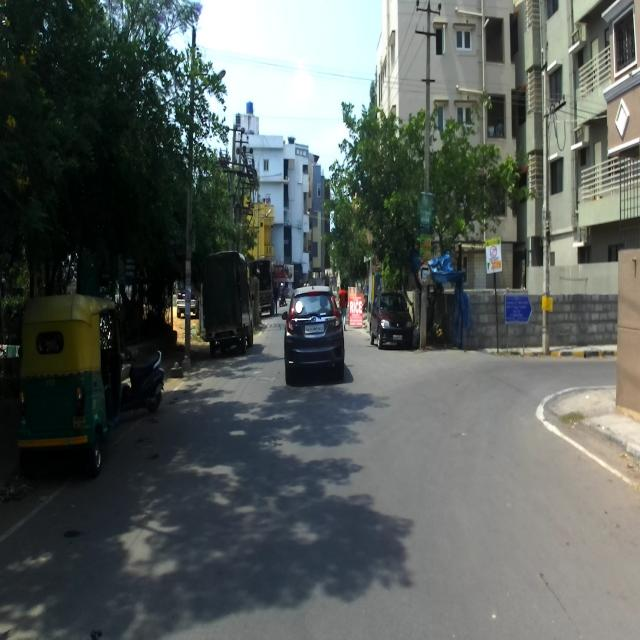autorickshaw: (19, 291, 124, 477)
car: (282, 277, 345, 386), (369, 289, 414, 350)
scooter: (114, 343, 164, 414)
truck: (198, 251, 254, 356)
